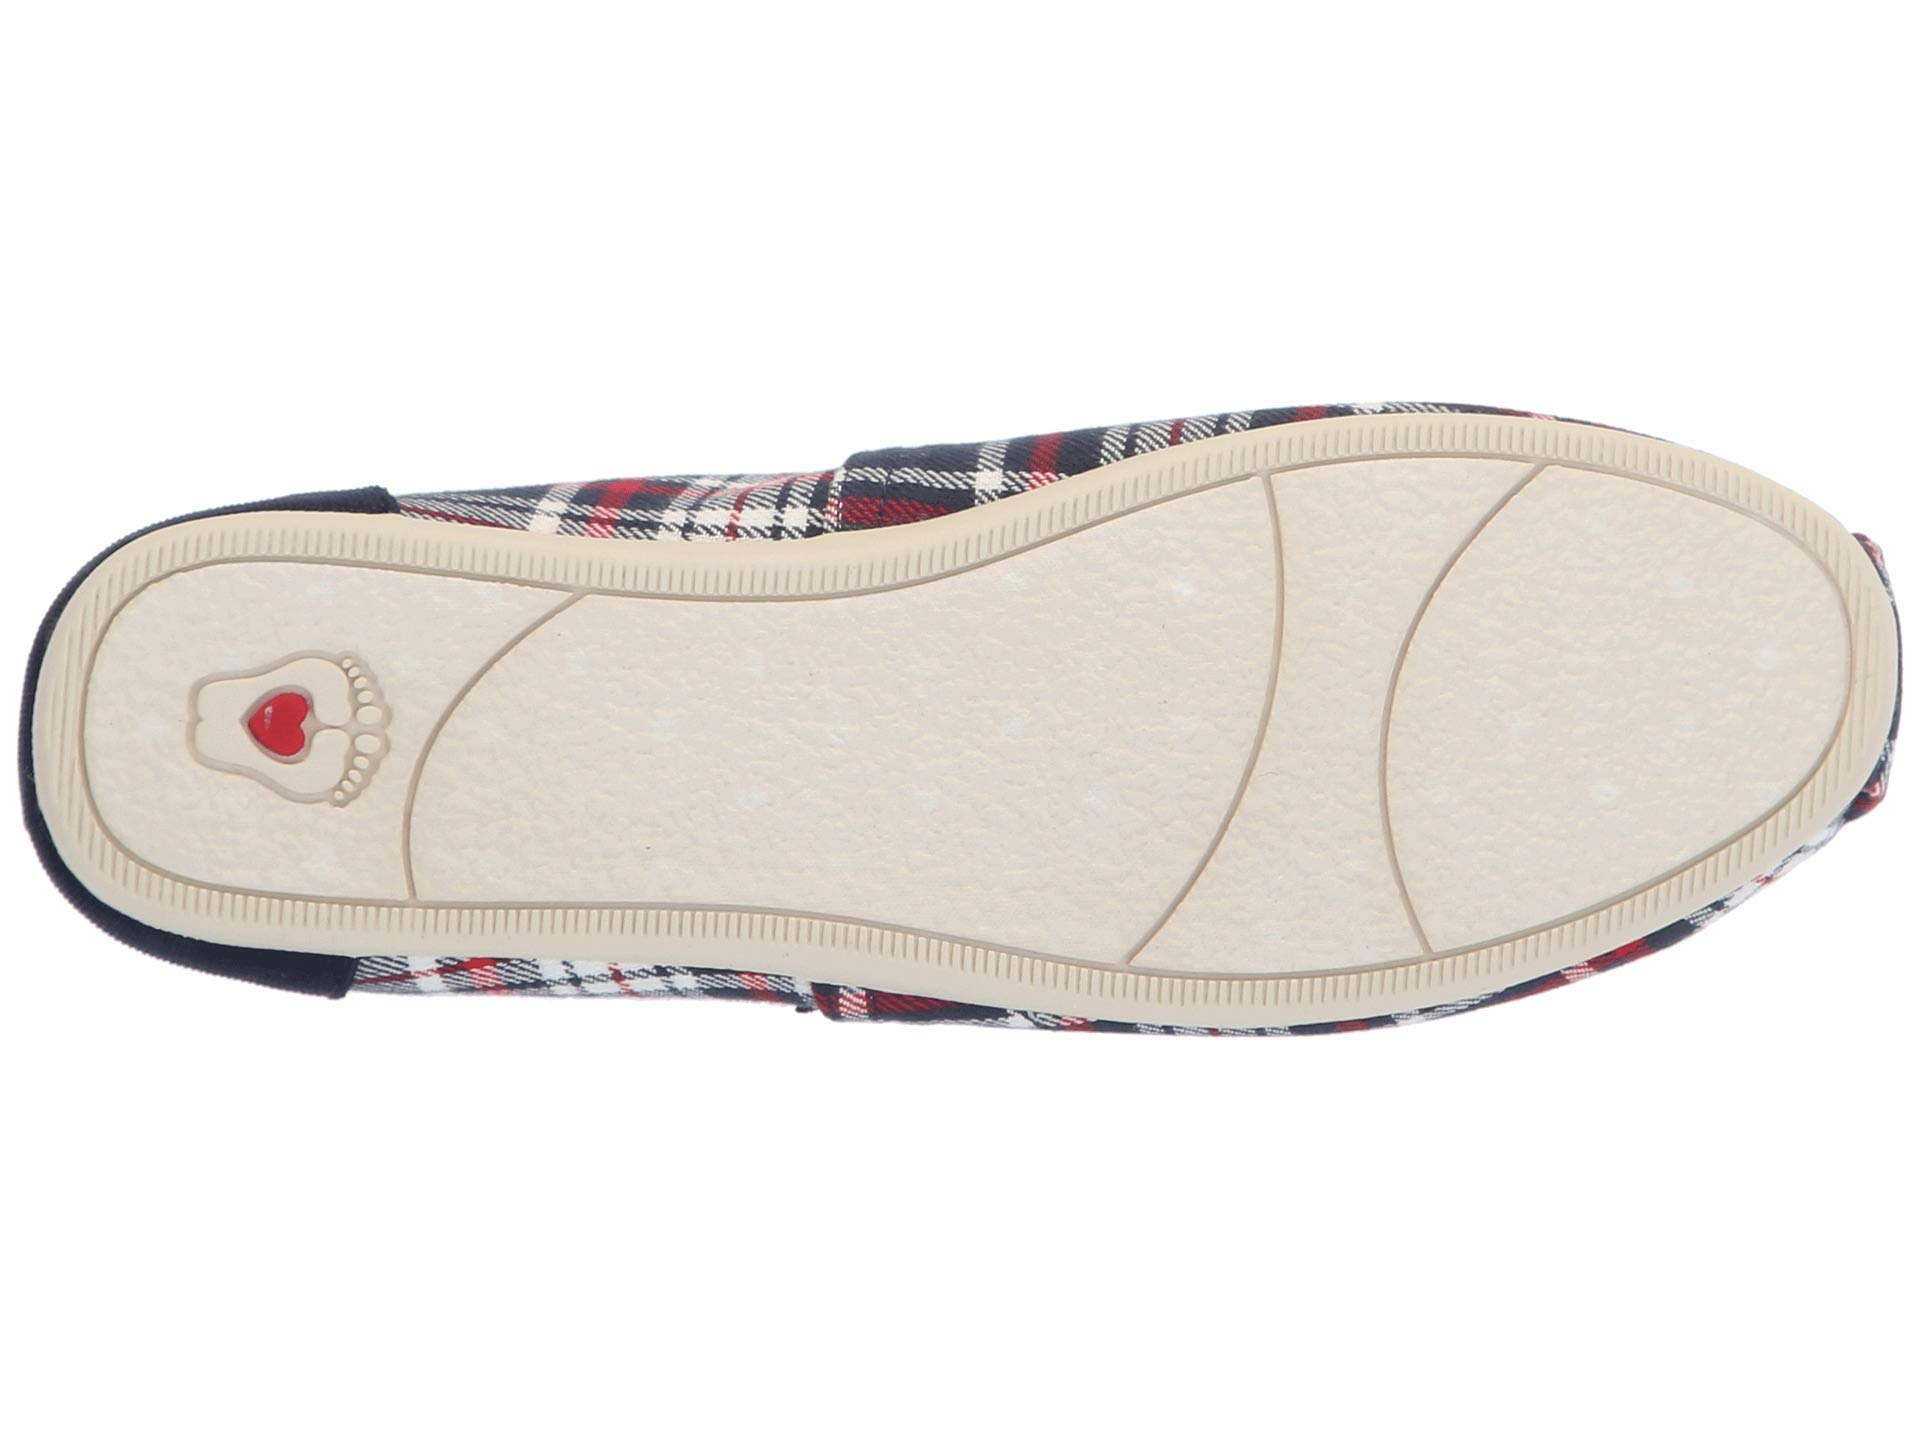circle: (352, 643, 386, 826)
line: (1352, 523, 1556, 883), (1163, 504, 1299, 917)
quad: (160, 870, 552, 944), (482, 560, 930, 610), (124, 532, 441, 591), (552, 886, 859, 944), (1069, 964, 1346, 1013), (1299, 422, 1569, 461)
